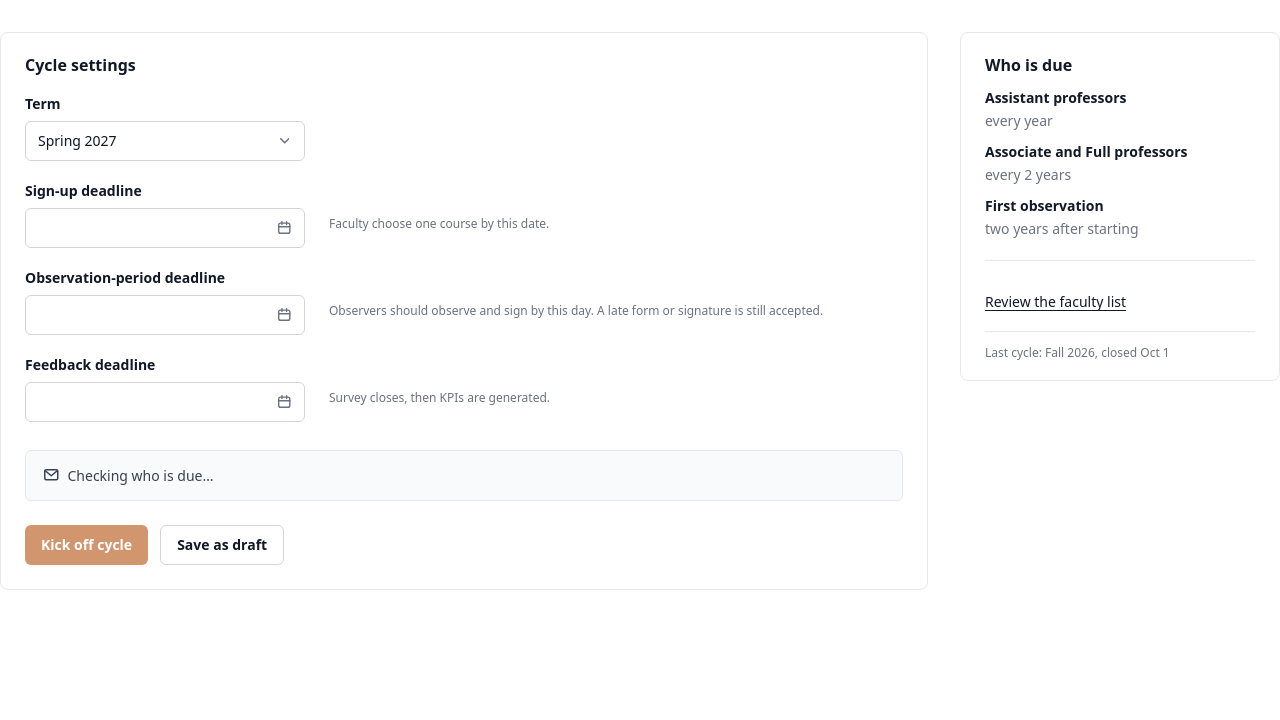
Test: Cycle page: starting a cycle › shows the server error 400 INVALID_TERM_ID as sent and keeps the input
The width and height of the screenshot is (1280, 720).
Expected: the dropdown labelled "Term" is shown, [25,121,305,161]
Type "2027-01-15" into the date field labelled "Sign-up deadline" at (165, 228), box [25,208,305,248]
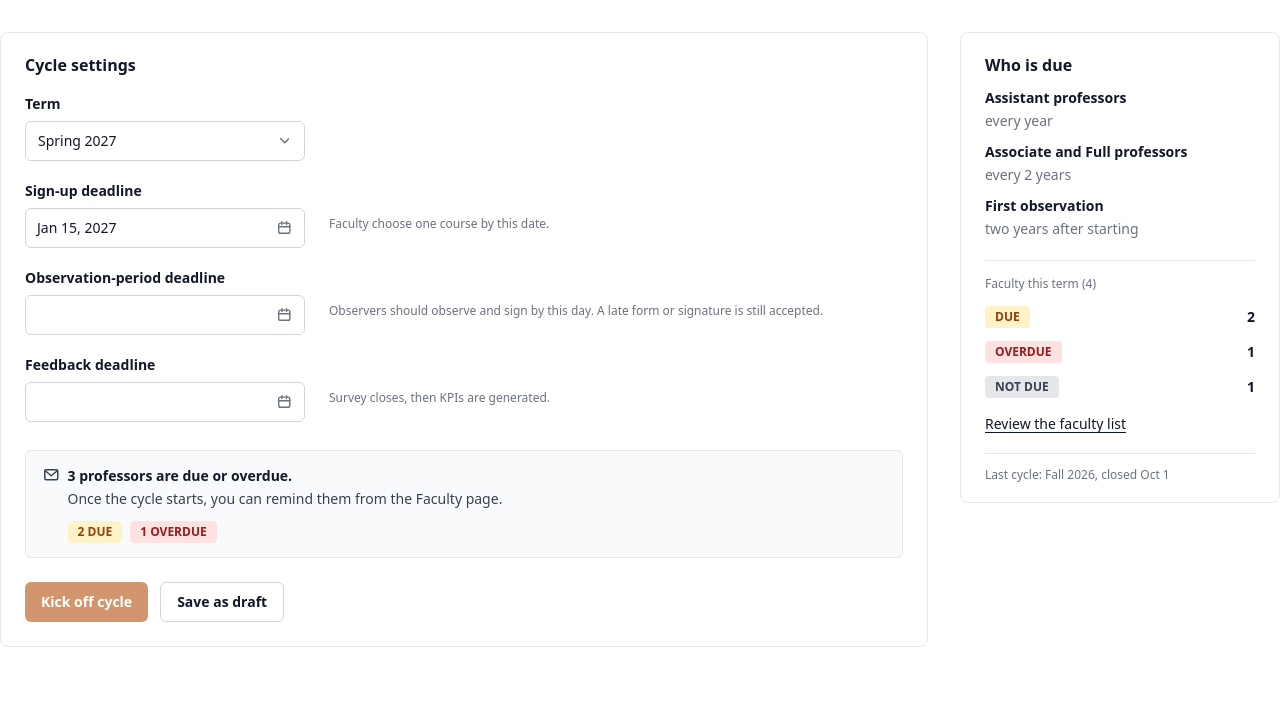
Type "2027-03-01" into the date field labelled "Observation-period deadline" at (165, 315), box [25,295,305,335]
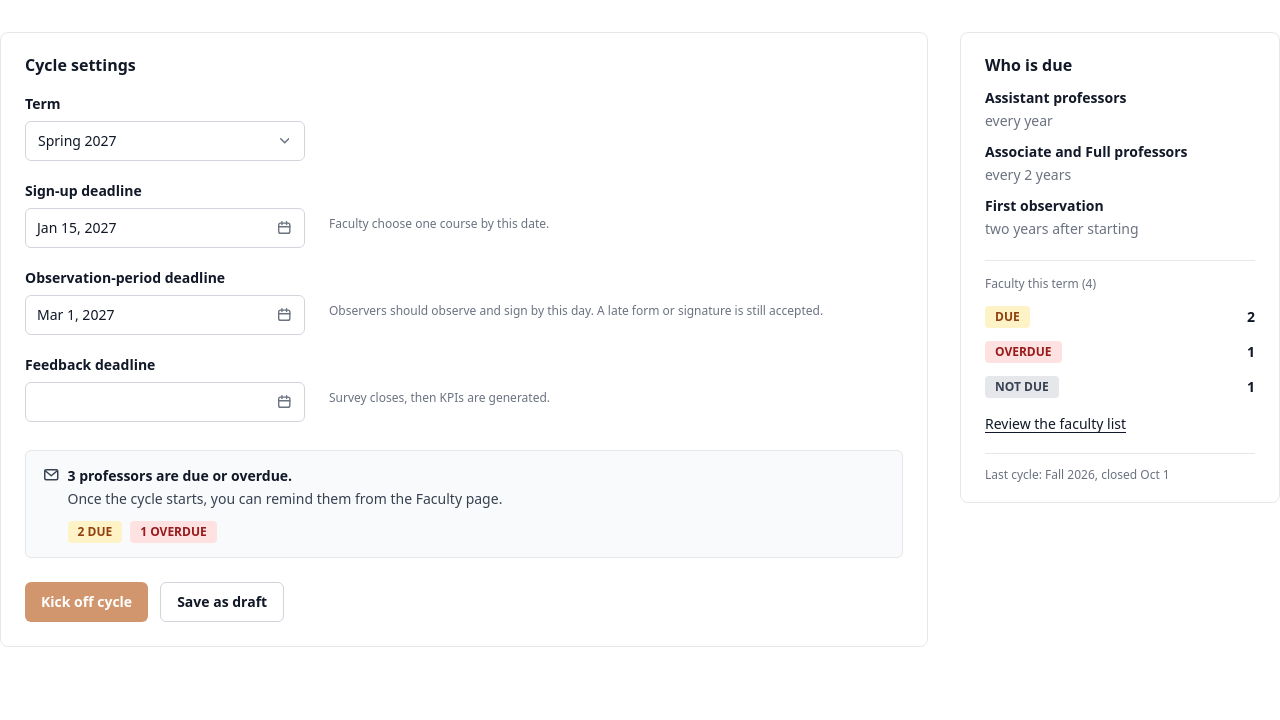
Type "2027-04-01" into the date field labelled "Feedback deadline" at (165, 402), box [25,382,305,422]
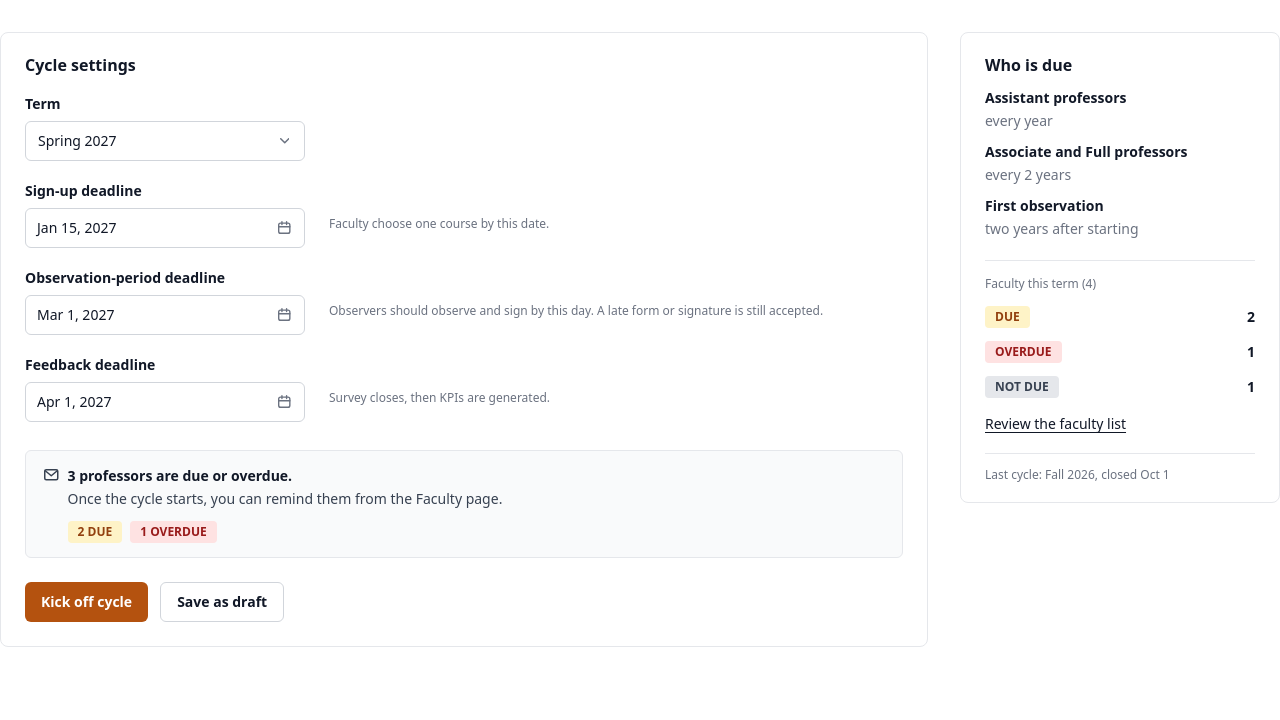
Click the button "Kick off cycle" at (87, 602), box [25,582,148,622]
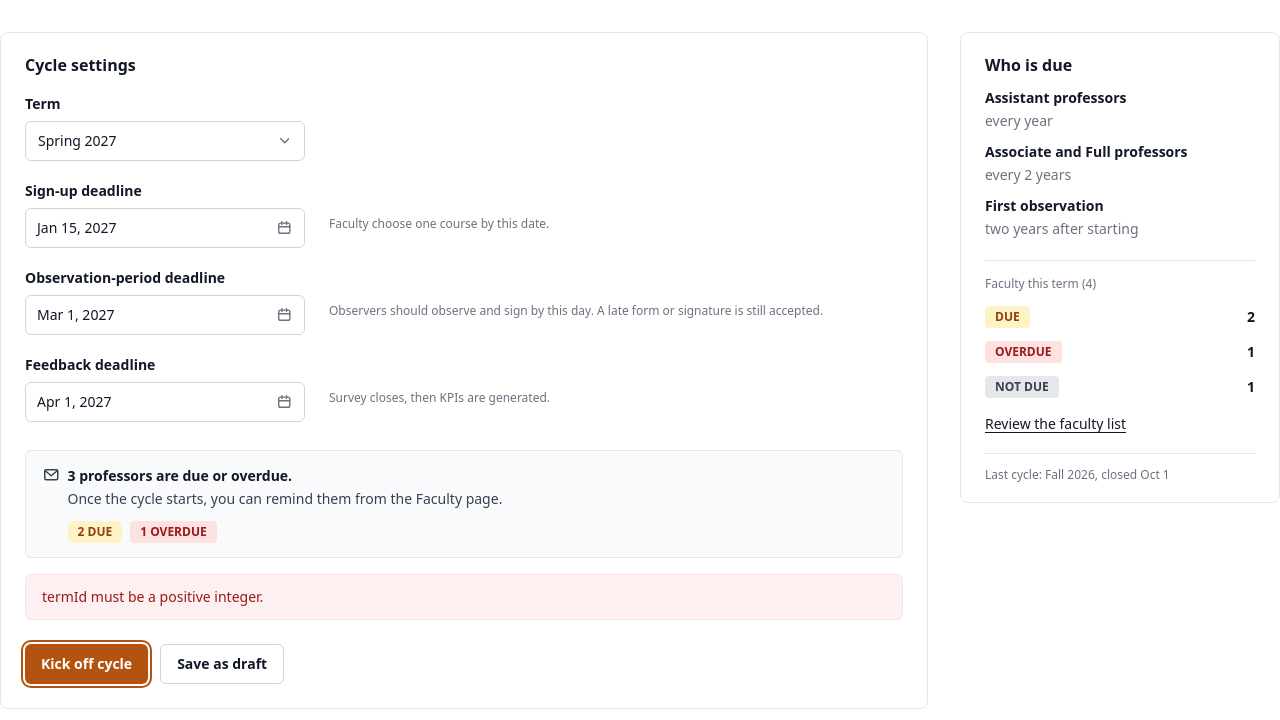
Result: the message reads "termId must be a positive integer." at [42,587,263,606]
